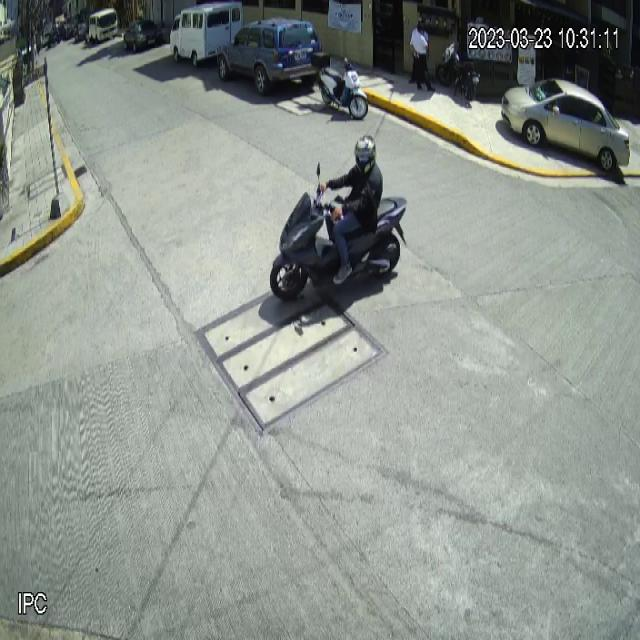Car: (501, 77, 632, 176), (215, 14, 322, 97)
Motorcycle: (269, 159, 408, 302), (311, 51, 369, 120)
Van: (169, 0, 243, 68)
